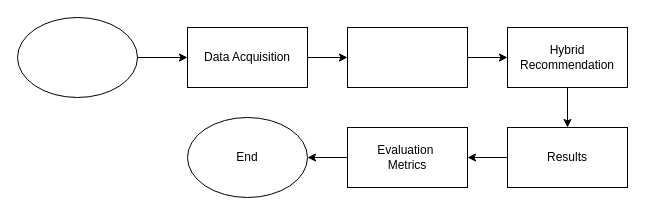
Some shapes in this 645 by 215 pixel diagram are drawn without their labels. The box of each missing label's shape, as (x1, y1, x2, y2) in pixels:
Extracted Keywords From Long Text: (346, 26, 468, 88)
Start: (16, 16, 138, 98)
